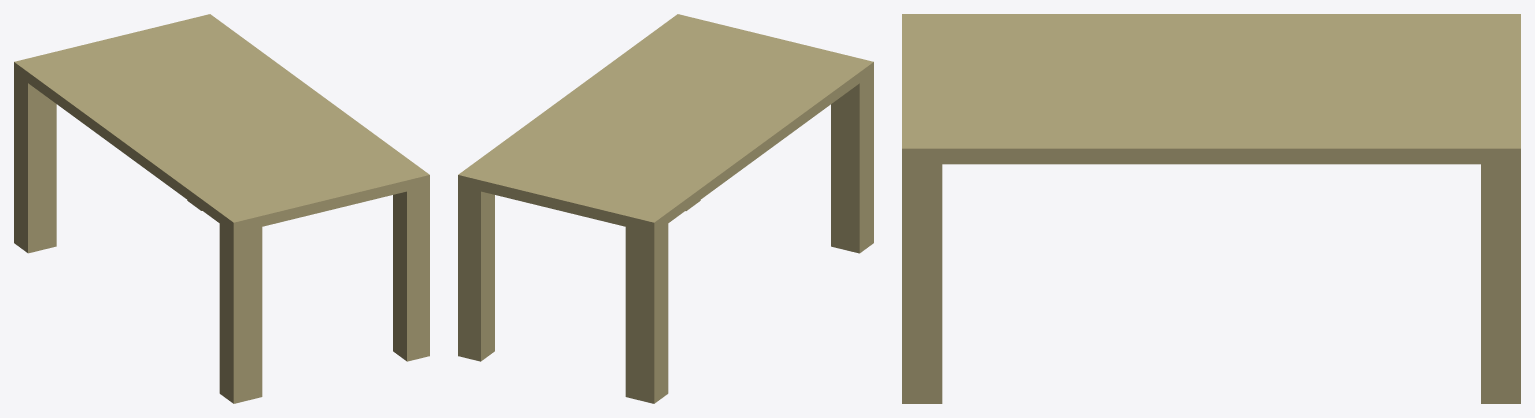
Rendered from Table.fbx.
3 views of the same model, side by side, from view 1: azimuth 30°, elevation 25°; view 2: azimuth 150°, elevation 25°; view 3: azimuth 270°, elevation 25° (orthographic). The views are drawn at different scales.
Visible parts, largest first — view 1: Cube; view 2: Cube; view 3: Cube.
Part boxes in pixels (<box>): Cube: <box>14,14,429,403</box>; Cube: <box>458,14,873,403</box>; Cube: <box>902,14,1520,403</box>.
Bounding box in the file's own units: 383 × 338 × 743.
